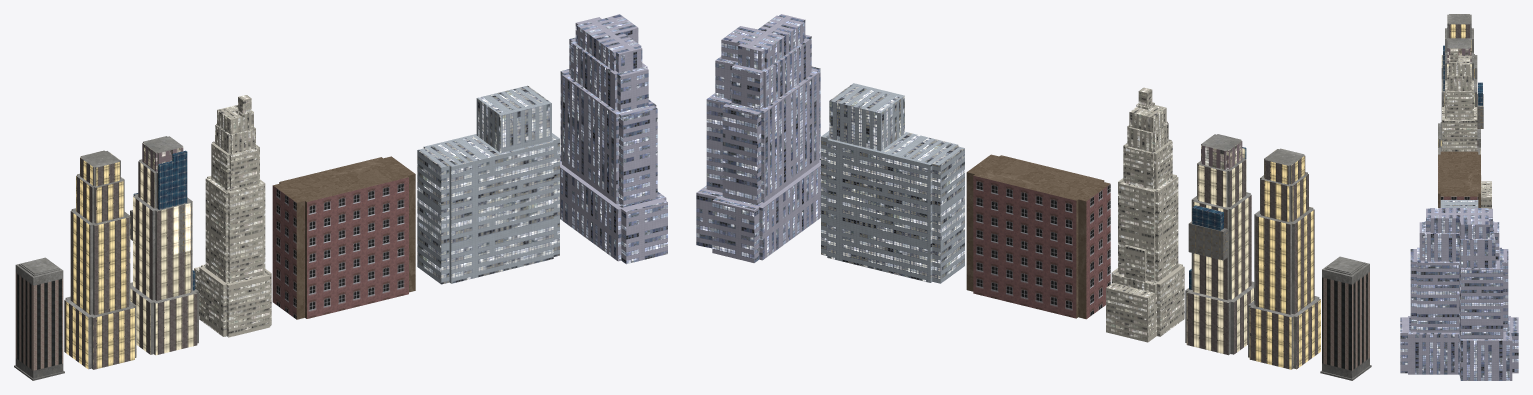
File: city-skyline.glb
The picture shows the model from 3 angles, left to right: view 1: azimuth 30°, elevation 25°; view 2: azimuth 150°, elevation 25°; view 3: azimuth 270°, elevation 25°; orthographic projection. The views are drawn at different scales.
Visible parts, largest first — view 1: Cube.005_Building6_0, Cube.006_Building7_0, Cube.004_Building5_0, Cube.003_Building4_0, Cube.001_Building2_0, Cube.002_Building3_0, Cube_Building1_0; view 2: Cube.006_Building7_0, Cube.005_Building6_0, Cube.004_Building5_0, Cube.003_Building4_0, Cube.001_Building2_0, Cube.002_Building3_0, Cube_Building1_0; view 3: Cube.006_Building7_0, Cube.003_Building4_0, Cube.004_Building5_0, Cube.002_Building3_0, Cube.001_Building2_0, Cube.005_Building6_0.
Part boxes in pixels (left/top/right/bottom): Cube.005_Building6_0: left=417, top=85, right=559, bottom=284; Cube.006_Building7_0: left=560, top=14, right=667, bottom=264; Cube.004_Building5_0: left=272, top=156, right=415, bottom=319; Cube.003_Building4_0: left=194, top=95, right=271, bottom=337; Cube.001_Building2_0: left=64, top=150, right=136, bottom=369; Cube.002_Building3_0: left=130, top=136, right=198, bottom=355; Cube_Building1_0: left=14, top=257, right=64, bottom=380; Cube.006_Building7_0: left=696, top=14, right=820, bottom=262; Cube.005_Building6_0: left=821, top=83, right=964, bottom=283; Cube.004_Building5_0: left=966, top=154, right=1110, bottom=319; Cube.003_Building4_0: left=1106, top=87, right=1184, bottom=342; Cube.001_Building2_0: left=1248, top=148, right=1320, bottom=369; Cube.002_Building3_0: left=1185, top=134, right=1254, bottom=355; Cube_Building1_0: left=1320, top=256, right=1371, bottom=380; Cube.006_Building7_0: left=1400, top=208, right=1518, bottom=380; Cube.003_Building4_0: left=1442, top=48, right=1491, bottom=208; Cube.004_Building5_0: left=1438, top=151, right=1480, bottom=207; Cube.002_Building3_0: left=1438, top=38, right=1483, bottom=154; Cube.001_Building2_0: left=1438, top=14, right=1480, bottom=147; Cube.005_Building6_0: left=1440, top=200, right=1478, bottom=207.
Size of the model in its own units: 785 by 271 by 165.
Materials: 7 (7 with a texture image).
